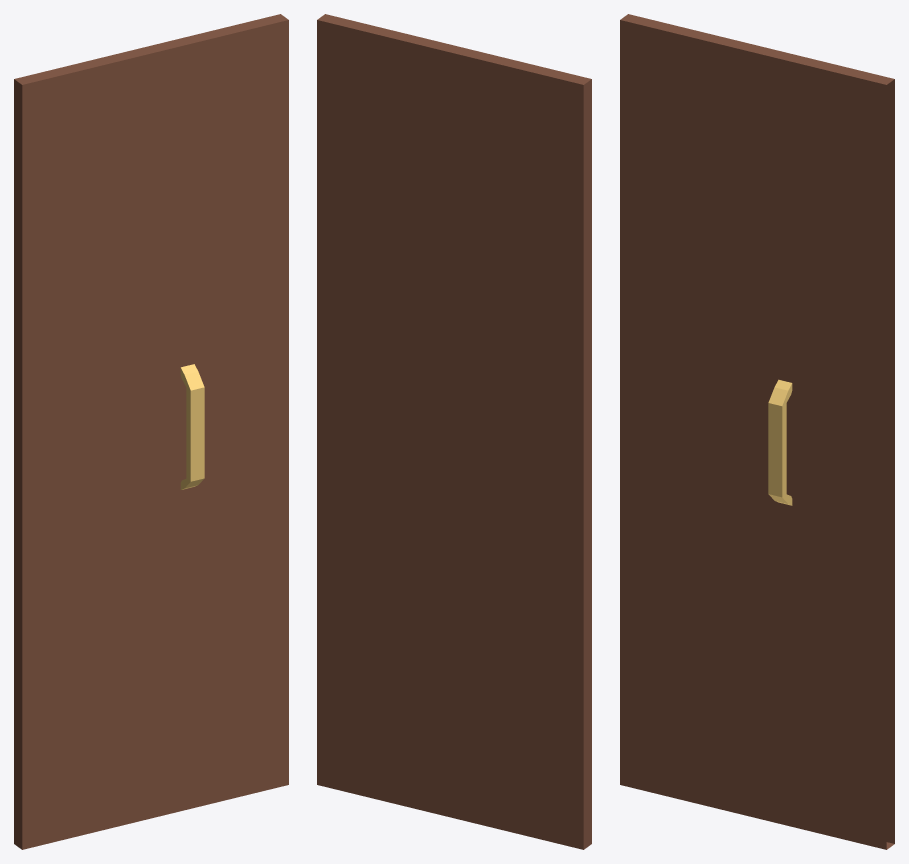
File: дверца шкафа2 коридор.fbx
The picture shows the model from 3 angles, left to right: view 1: azimuth 30°, elevation 25°; view 2: azimuth 150°, elevation 25°; view 3: azimuth 330°, elevation 25°; orthographic projection.
Visible parts, largest first — view 1: Cube.063; view 2: Cube.063; view 3: Cube.063.
Part boxes in pixels (box(x1,y1,x2,y2)): Cube.063: box(14, 14, 288, 849); Cube.063: box(317, 14, 591, 849); Cube.063: box(620, 14, 894, 849).
Bounding box in the file's own units: 693 × 1900 × 82.12.
